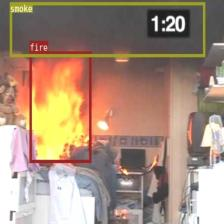fire: (29, 51, 91, 162)
smoke: (9, 2, 205, 56)
